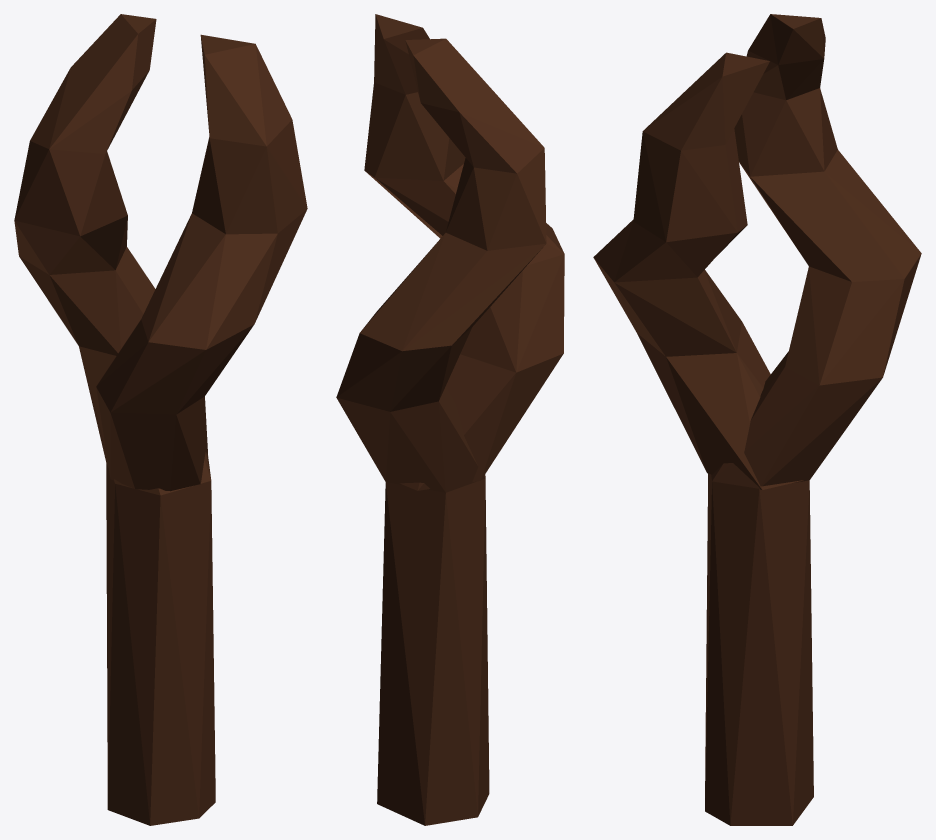
File: träd.fbx
3 views of the same model, side by side, from view 1: azimuth 30°, elevation 25°; view 2: azimuth 150°, elevation 25°; view 3: azimuth 270°, elevation 25° (orthographic).
Parts seen in each view (by area): view 1: Cylinder.001; view 2: Cylinder.001; view 3: Cylinder.001.
Part boxes in pixels (x1=…): Cylinder.001: x1=14, y1=14, x2=307, y2=825; Cylinder.001: x1=336, y1=14, x2=564, y2=825; Cylinder.001: x1=593, y1=14, x2=921, y2=825.
Size of the model in its own units: 492 by 1569 by 596.
